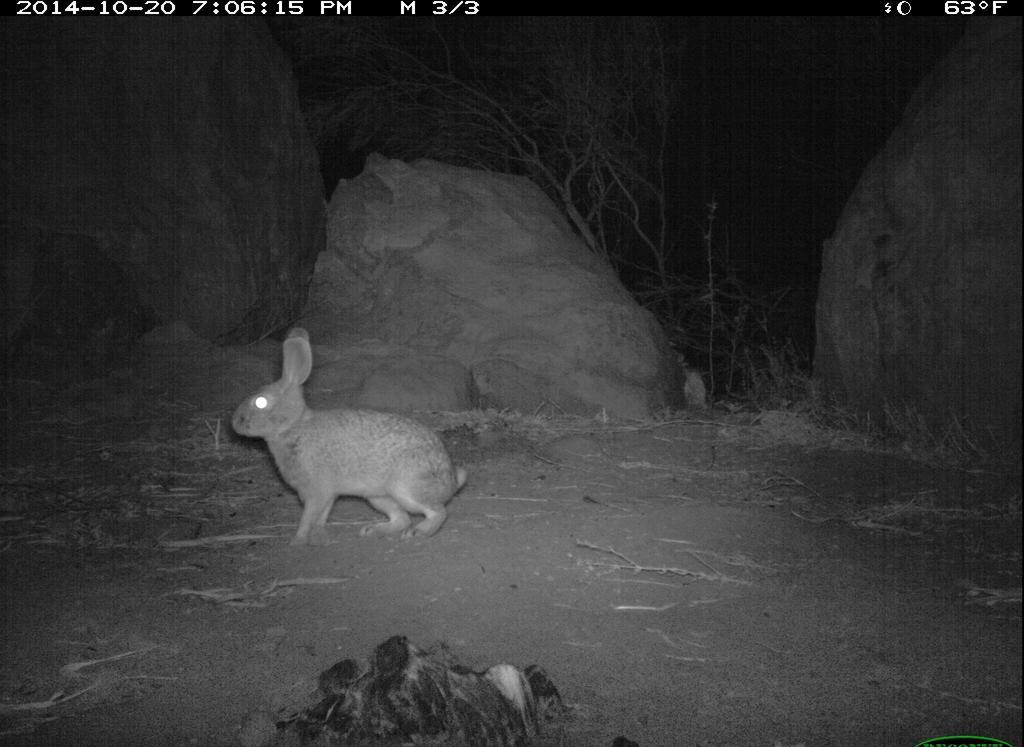rabbit: (217, 318, 521, 570)
